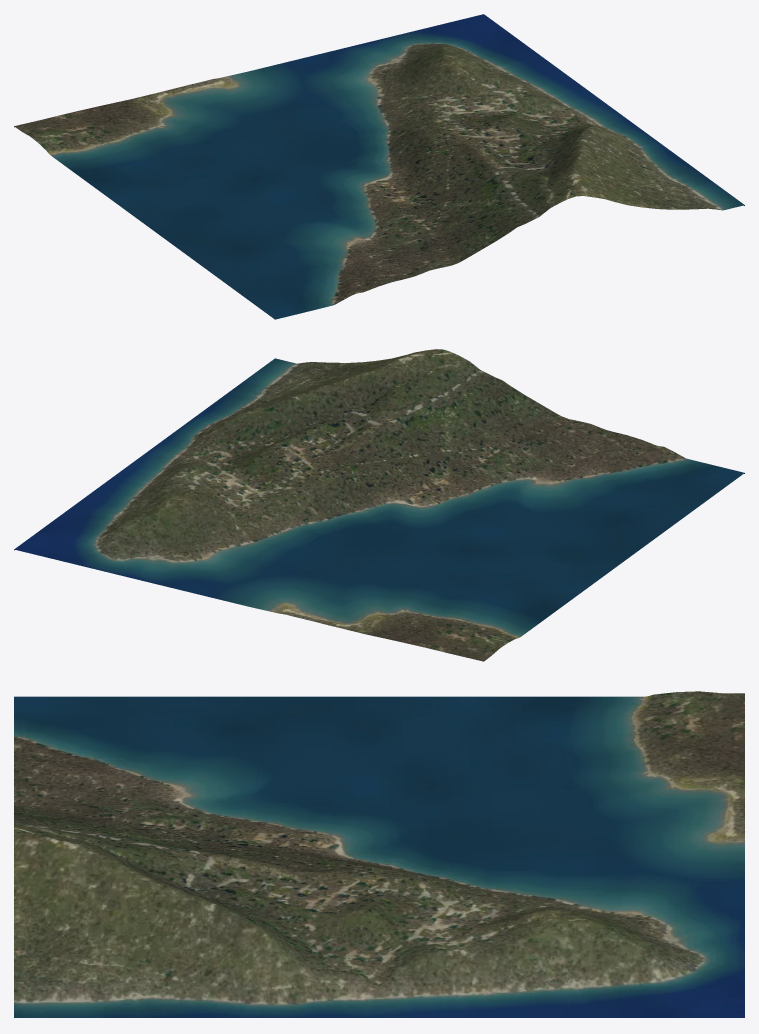
3 views of the same model, one above another, from view 1: azimuth 30°, elevation 25°; view 2: azimuth 150°, elevation 25°; view 3: azimuth 270°, elevation 25° (orthographic). The views are drawn at different scales.
Size of the model in its own units: 1000 by 107 by 963.
1 material, 1 textured.
